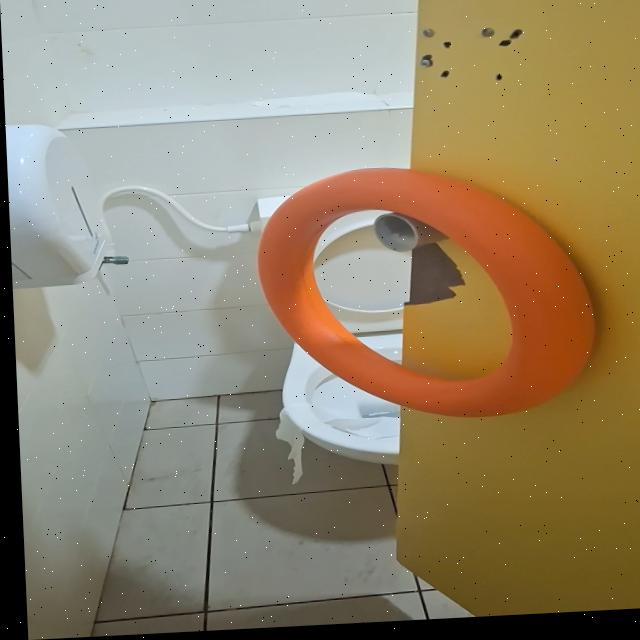note: (249, 161, 598, 433)
